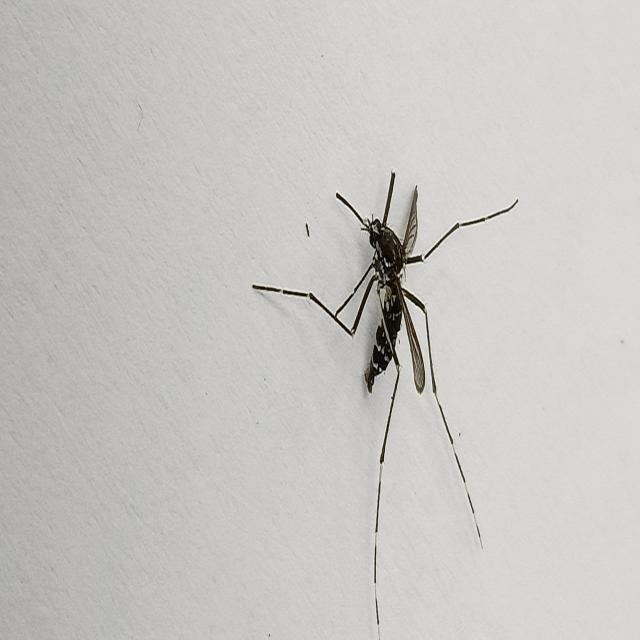albopictus: (272, 134, 507, 616)
